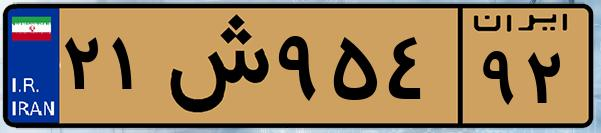1: (110, 28, 158, 98)
2: (57, 26, 110, 100), (525, 38, 570, 115)
4: (385, 28, 445, 110)
5: (330, 28, 385, 110)
9: (270, 28, 330, 110), (475, 38, 525, 113)
ش: (158, 12, 270, 120)
